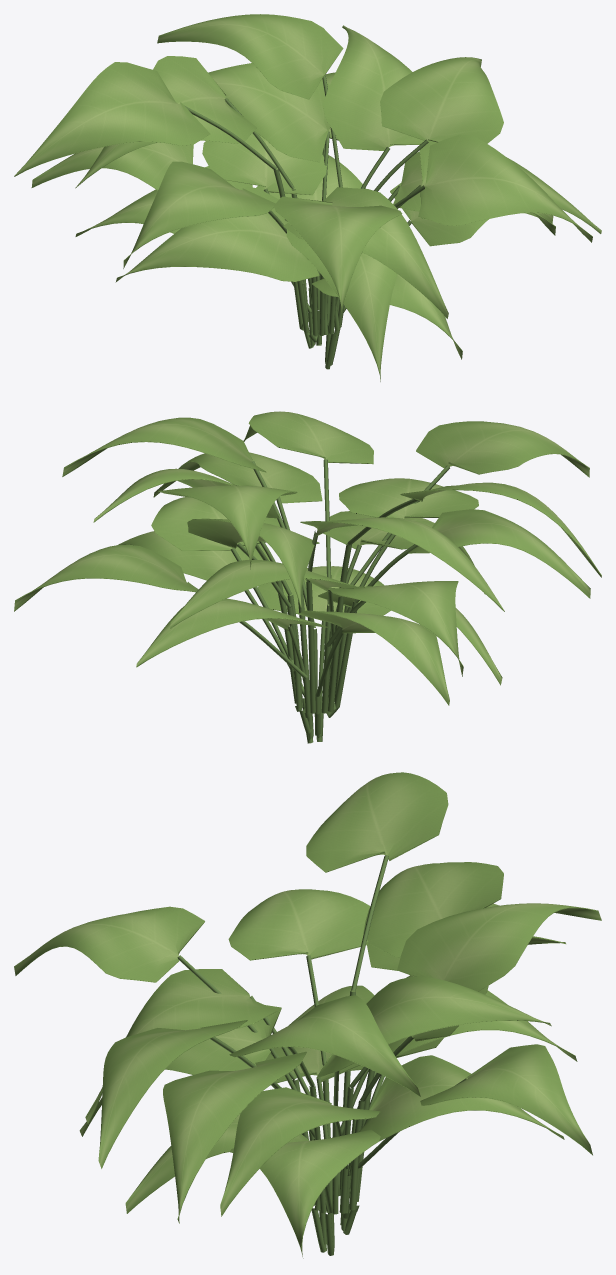
The model's file is syngonium-stage-6.glb.
3 views of the same model, one above another, from view 1: azimuth 30°, elevation 25°; view 2: azimuth 150°, elevation 25°; view 3: azimuth 270°, elevation 25° (orthographic). The views are drawn at different scales.
Visible parts, largest first — view 1: Leaf_20, Leaf_13, Leaf_16, Leaf_19, Leaf_2, Leaf_11, Leaf_14, Leaf_15, Leaf_18, PlantBranches, Leaf_17, Leaf_10 (+9 smaller); view 2: PlantBranches, Leaf_18, Leaf_9, Leaf_12, Leaf_13, Leaf_15, Leaf_4, Leaf_16, Leaf_10, Leaf_7, Leaf_8, Leaf_19 (+10 smaller); view 3: Leaf_19, Leaf_20, PlantBranches, Leaf_8, Leaf_15, Leaf_17, Leaf_18, Leaf_11, Leaf_6, Leaf_9, Leaf_13, Leaf_16 (+7 smaller).
Boxes of the visible parts, left/top/right/bottom form: Leaf_20: left=14, top=62, right=210, bottom=176; Leaf_13: left=418, top=134, right=592, bottom=242; Leaf_16: left=380, top=57, right=503, bottom=143; Leaf_19: left=157, top=14, right=343, bottom=99; Leaf_2: left=115, top=186, right=319, bottom=282; Leaf_11: left=322, top=25, right=423, bottom=150; Leaf_14: left=208, top=63, right=330, bottom=162; Leaf_15: left=123, top=161, right=275, bottom=268; Leaf_18: left=274, top=196, right=402, bottom=315; PlantBranches: left=184, top=75, right=428, bottom=369; Leaf_17: left=75, top=56, right=256, bottom=188; Leaf_10: left=283, top=187, right=448, bottom=318; PlantBranches: left=191, top=459, right=449, bottom=743; Leaf_18: left=416, top=421, right=589, bottom=477; Leaf_9: left=14, top=544, right=197, bottom=611; Leaf_12: left=328, top=581, right=463, bottom=676; Leaf_13: left=243, top=411, right=373, bottom=464; Leaf_15: left=408, top=509, right=590, bottom=598; Leaf_4: left=298, top=610, right=449, bottom=705; Leaf_16: left=62, top=417, right=266, bottom=476; Leaf_10: left=339, top=478, right=478, bottom=519; Leaf_7: left=170, top=560, right=359, bottom=628; Leaf_8: left=153, top=452, right=322, bottom=503; Leaf_19: left=158, top=485, right=297, bottom=569; Leaf_19: left=397, top=903, right=601, bottom=991; Leaf_20: left=306, top=772, right=448, bottom=872; PlantBranches: left=177, top=855, right=466, bottom=1255; Leaf_8: left=163, top=1051, right=306, bottom=1223; Leaf_15: left=228, top=889, right=370, bottom=960; Leaf_17: left=363, top=862, right=503, bottom=958; Leaf_18: left=14, top=906, right=204, bottom=982; Leaf_11: left=316, top=976, right=551, bottom=1078; Leaf_6: left=220, top=1087, right=380, bottom=1216; Leaf_9: left=420, top=1044, right=592, bottom=1155; Leaf_13: left=98, top=1020, right=247, bottom=1168; Leaf_16: left=229, top=995, right=420, bottom=1096.
Bounding box in the file's own units: 2.51 × 1.47 × 2.15.
Materials: 2 (1 with a texture image).
